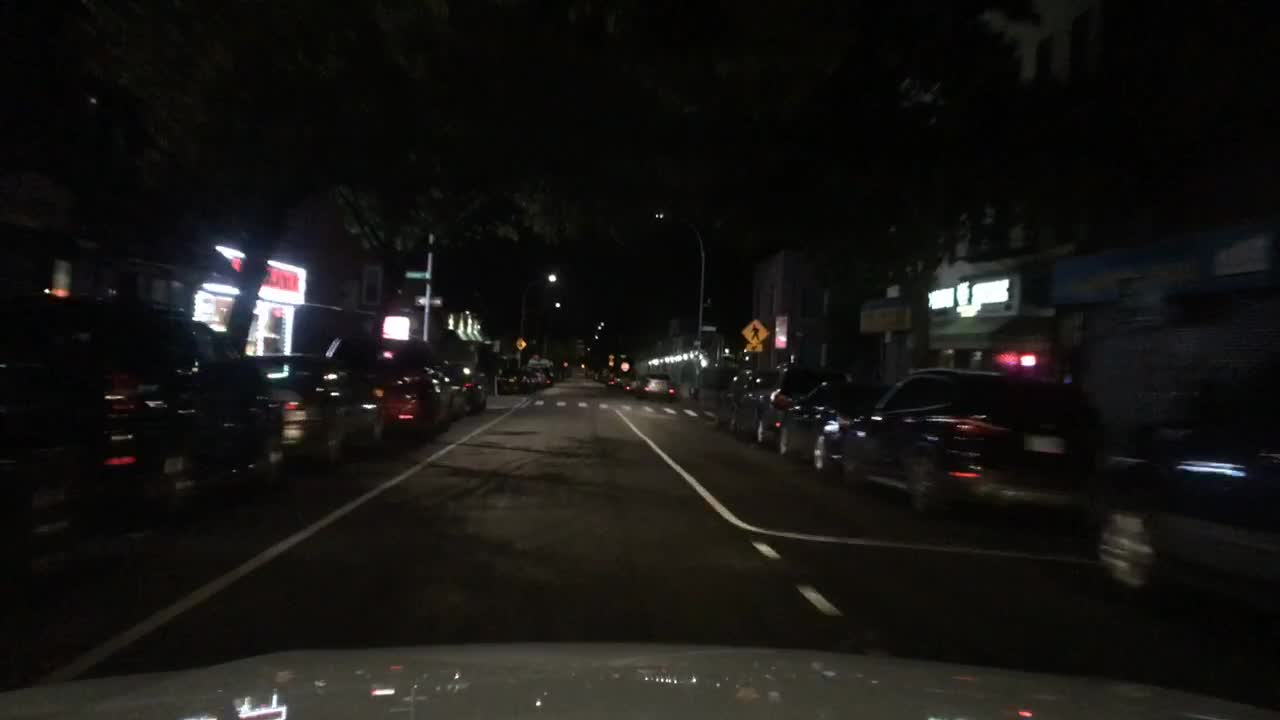car: (0, 282, 276, 545), (1082, 410, 1278, 668), (809, 365, 1098, 529), (239, 351, 387, 478), (323, 331, 454, 438), (778, 376, 903, 481), (754, 362, 841, 456), (711, 364, 794, 435), (426, 339, 490, 413), (471, 341, 506, 396), (492, 350, 528, 395), (630, 371, 676, 402), (528, 353, 558, 380), (521, 362, 545, 392), (606, 370, 633, 387), (534, 363, 554, 382), (549, 357, 564, 380), (600, 364, 613, 383), (560, 359, 572, 376), (592, 364, 604, 380), (583, 365, 595, 376)
traffic sign: (740, 320, 767, 344), (414, 295, 440, 305), (404, 270, 429, 278), (700, 324, 717, 332), (745, 344, 762, 351), (515, 337, 525, 347), (619, 362, 628, 370), (607, 351, 614, 359), (607, 359, 613, 368)
